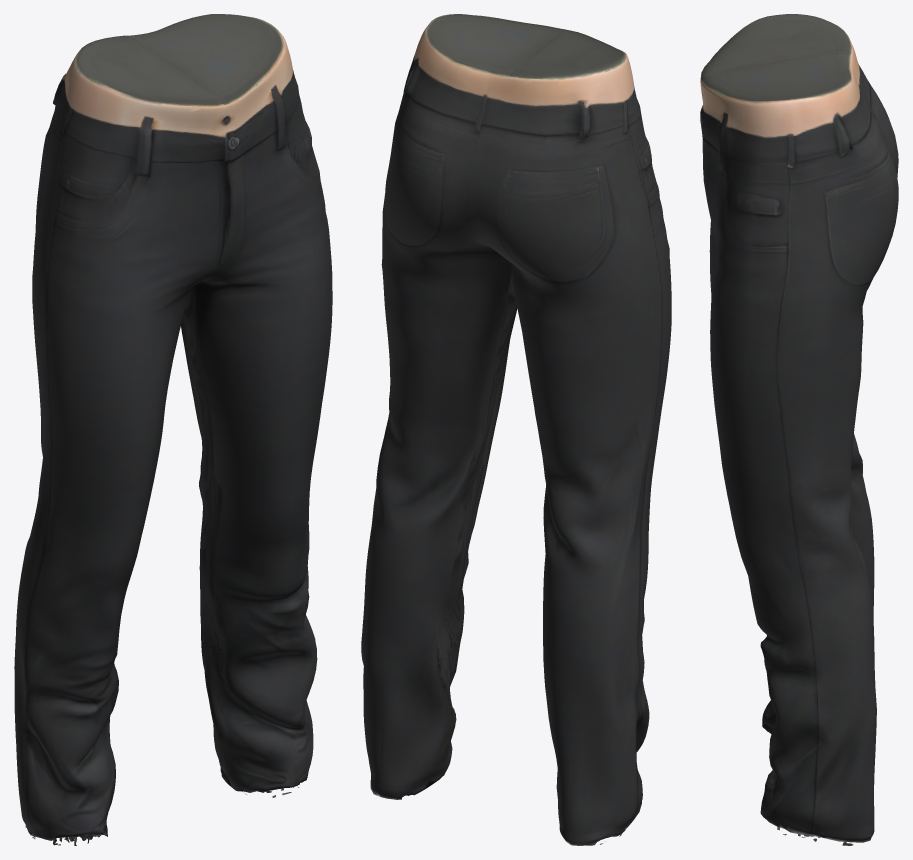
Rendered from create_an_black_pants_0330181502_texture.glb.
3 renders of one model, left to right at view 1: azimuth 30°, elevation 25°; view 2: azimuth 150°, elevation 25°; view 3: azimuth 270°, elevation 25°, orthographic. The views are drawn at different scales.
Bounding box in the file's own units: 0.7458 × 1.99 × 0.4876.
Materials: 1 (1 with a texture image).
